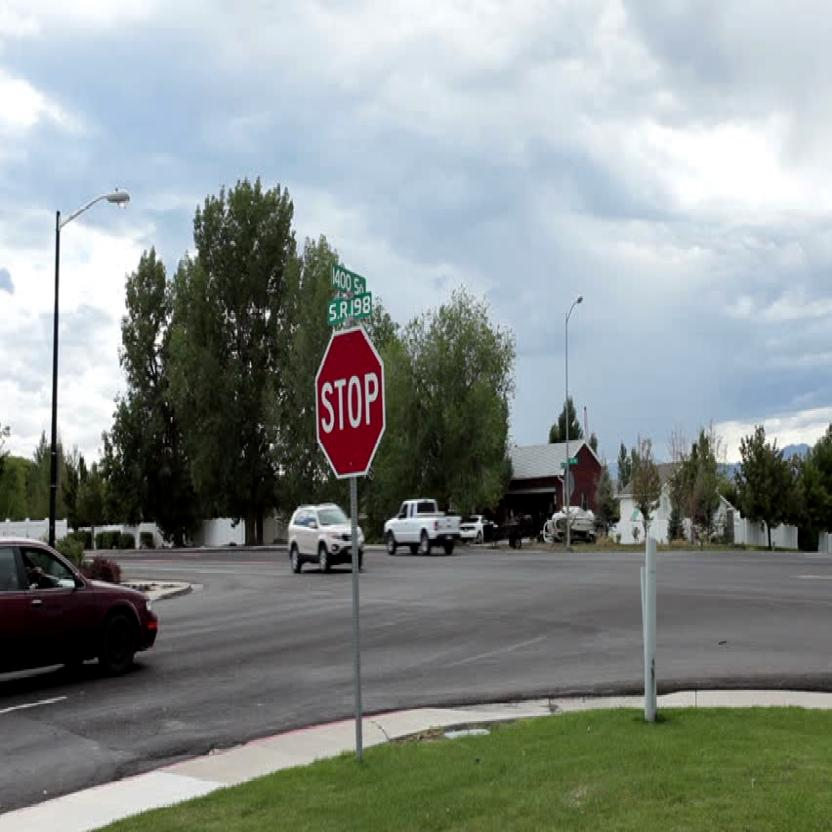Pole: (350, 486, 364, 768)
Sign: (315, 322, 386, 479)
